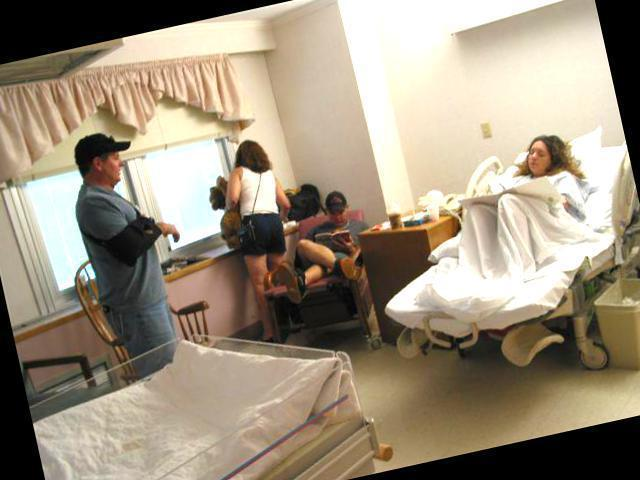Bote de Basura: (588, 278, 640, 383)
